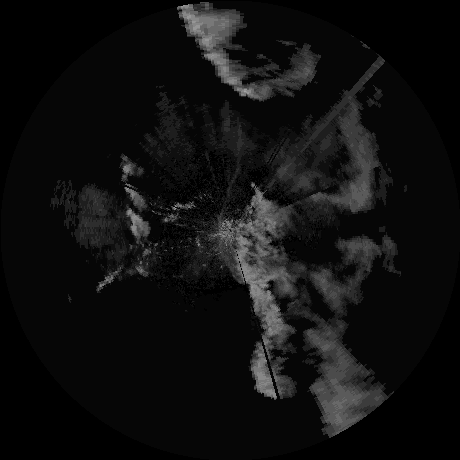frontgust: (222, 128, 243, 220)
